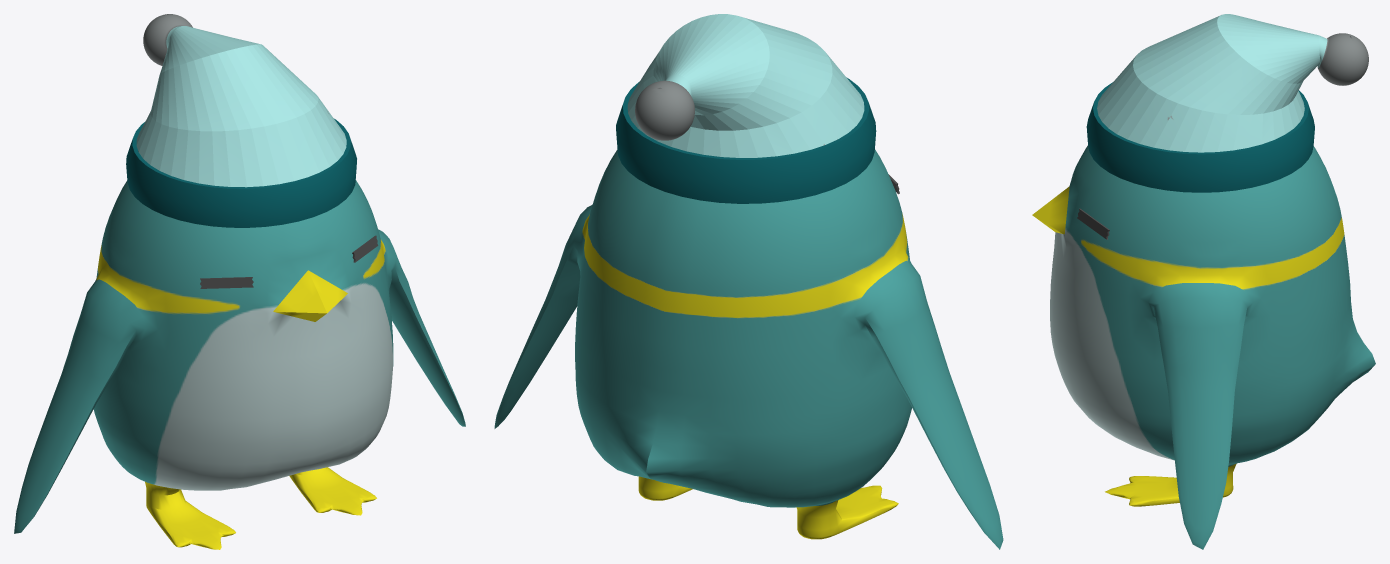
Rendered from penguin_blue_blink_00f.fbx.
3 renders of one model, left to right at view 1: azimuth 30°, elevation 25°; view 2: azimuth 150°, elevation 25°; view 3: azimuth 270°, elevation 25°, orthographic. The views are drawn at different scales.
Visible parts, largest first — view 1: ppp, bousi, ai; view 2: ppp, bousi; view 3: ppp, bousi.
Boxes of the visible parts, x1,y1,x2,y2 form: ppp: [14, 180, 465, 549]; bousi: [126, 14, 356, 227]; ai: [200, 235, 378, 288]; ppp: [494, 149, 1003, 549]; bousi: [616, 14, 876, 203]; ppp: [1032, 145, 1375, 549]; bousi: [1086, 14, 1368, 192].
Bounding box in the file's own units: 21.33 × 20.18 × 14.35.
Materials: 1 (1 with a texture image).
